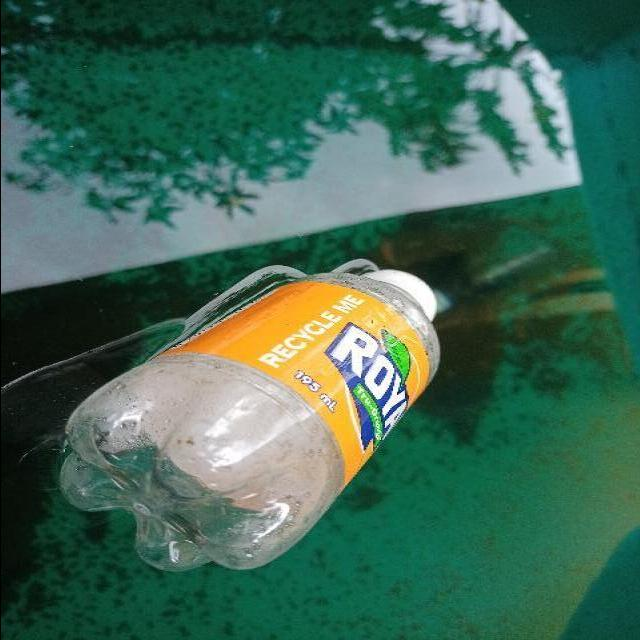Bottle: (54, 255, 450, 582)
